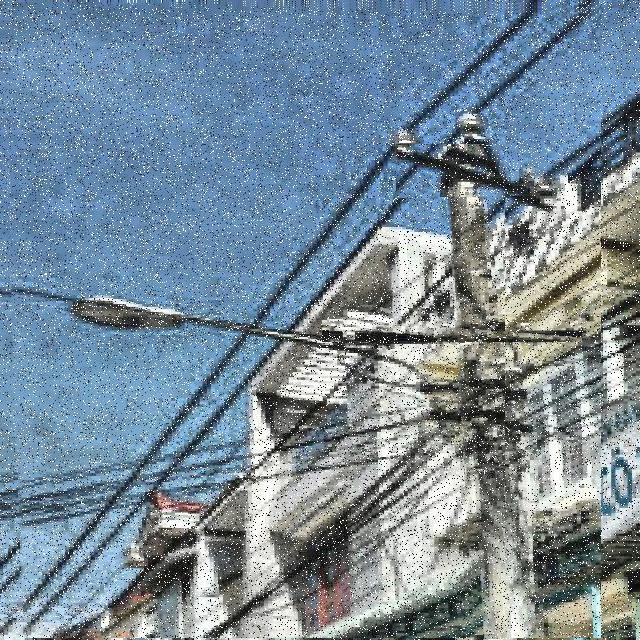crossarm: (396, 144, 534, 197), (322, 326, 580, 342)
pole: (445, 151, 505, 639)
wire: (18, 7, 601, 638), (0, 3, 541, 582)
